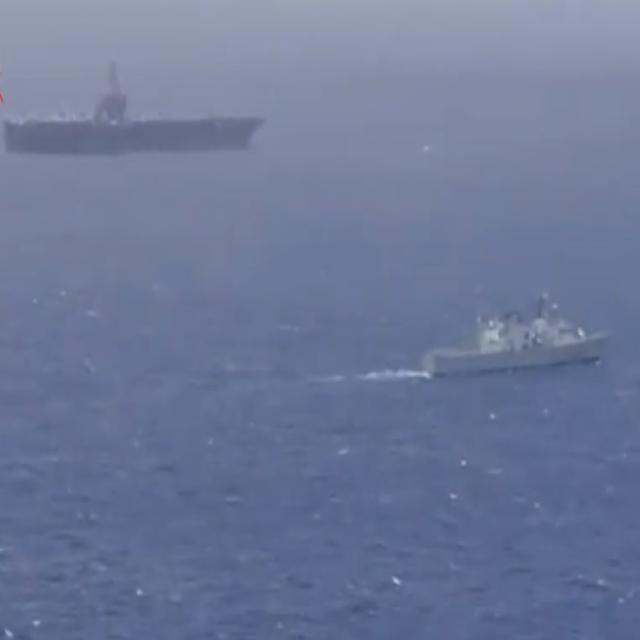navalvessels: (6, 56, 264, 162), (423, 291, 612, 374)
